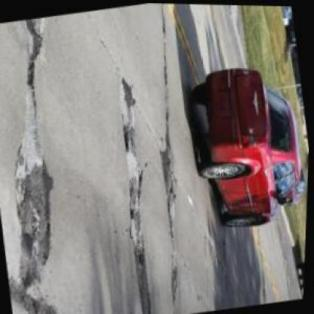Hueco: (2, 152, 72, 287), (124, 202, 161, 314), (157, 145, 186, 220), (121, 121, 136, 151)
